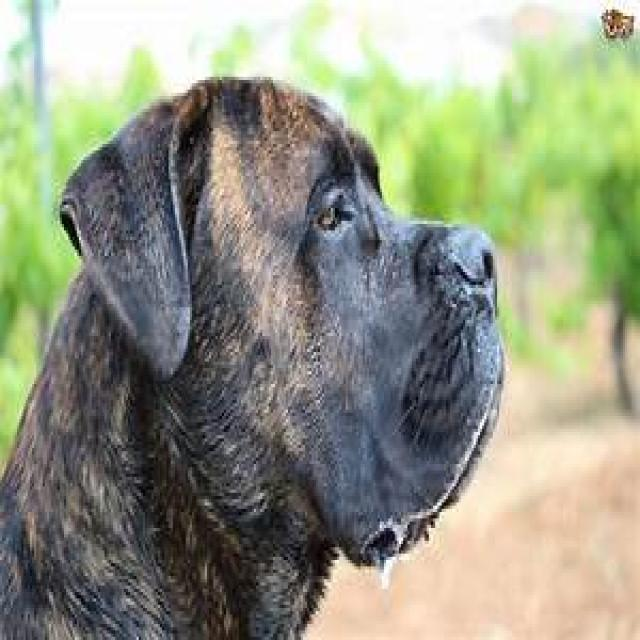dog: (0, 77, 508, 640)
